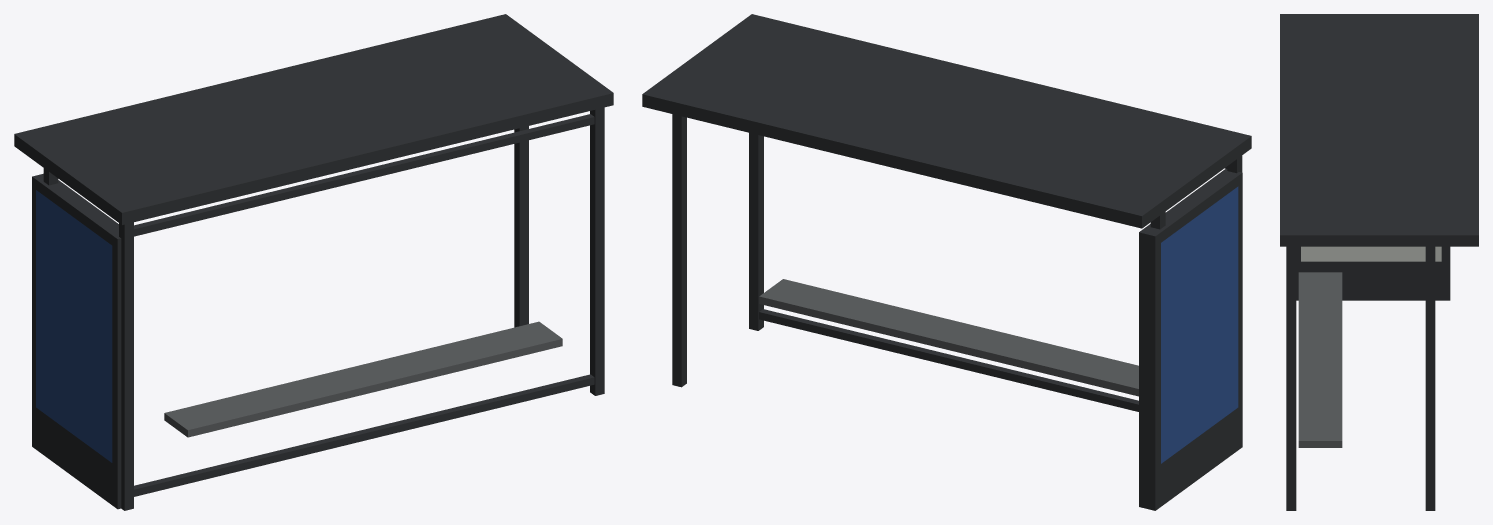
The model's file is abri.glb.
The picture shows the model from 3 angles, left to right: view 1: azimuth 30°, elevation 25°; view 2: azimuth 150°, elevation 25°; view 3: azimuth 270°, elevation 25°; orthographic projection. The views are drawn at different scales.
Parts seen in each view (by area): view 1: abri; view 2: abri; view 3: abri.
Part boxes in pixels (x1=…): abri: x1=14, y1=14, x2=613, y2=510; abri: x1=642, y1=14, x2=1251, y2=510; abri: x1=1280, y1=14, x2=1478, y2=510.
Bounding box in the file's own units: 4.21 × 2.47 × 1.6.
